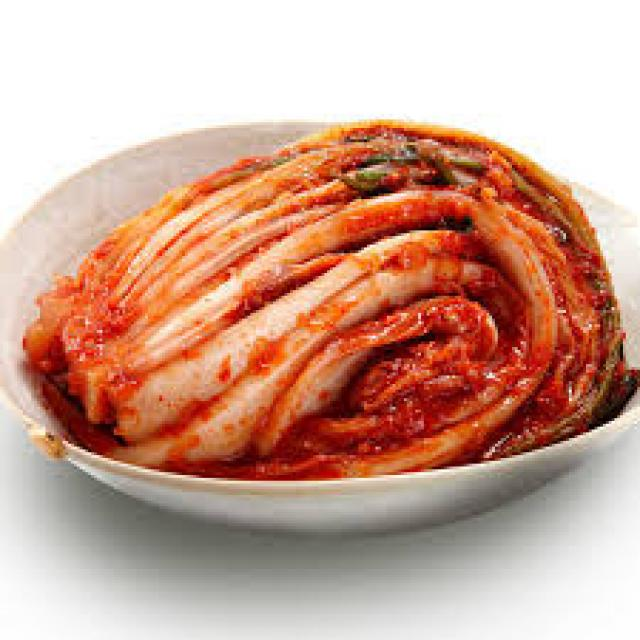kimchi: (128, 202, 464, 429)
